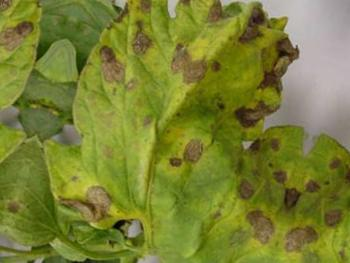Tomato Early blight leaf: (25, 0, 345, 263)
